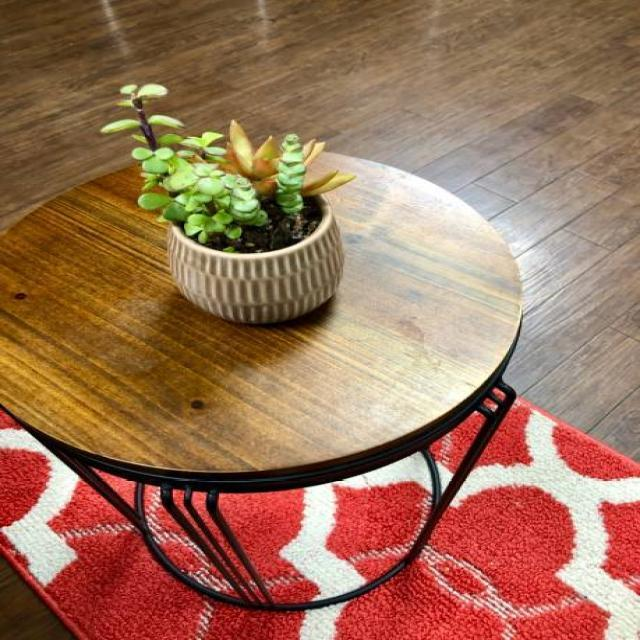table: (0, 147, 524, 609)
